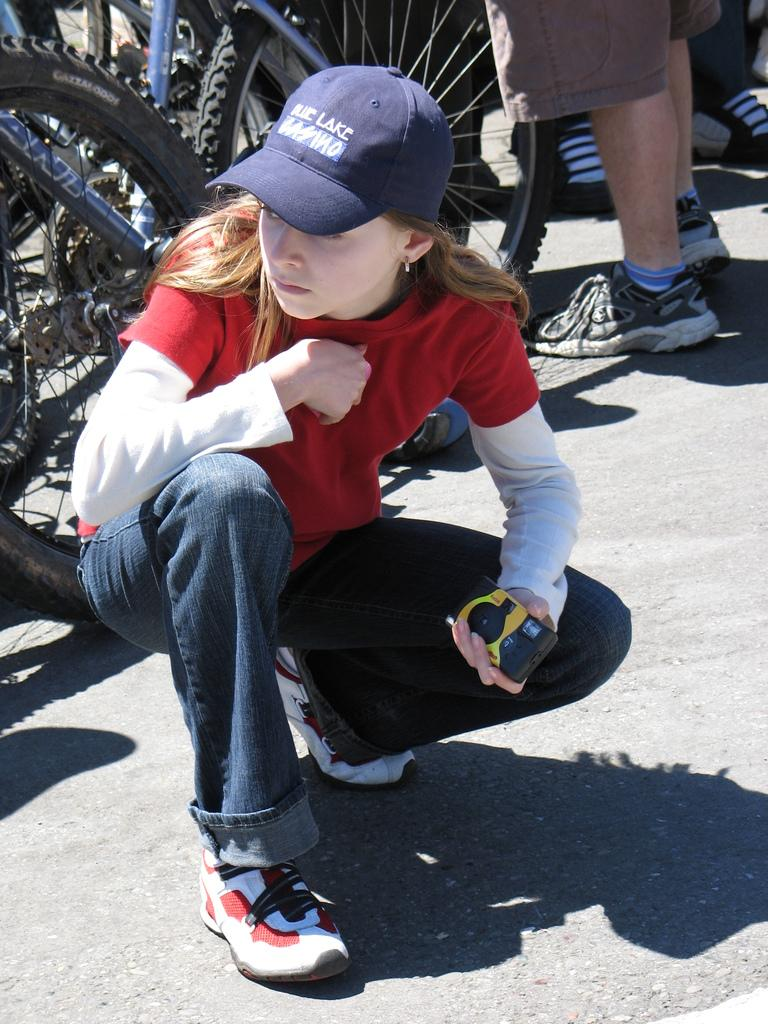Hat: (206, 65, 458, 237)
